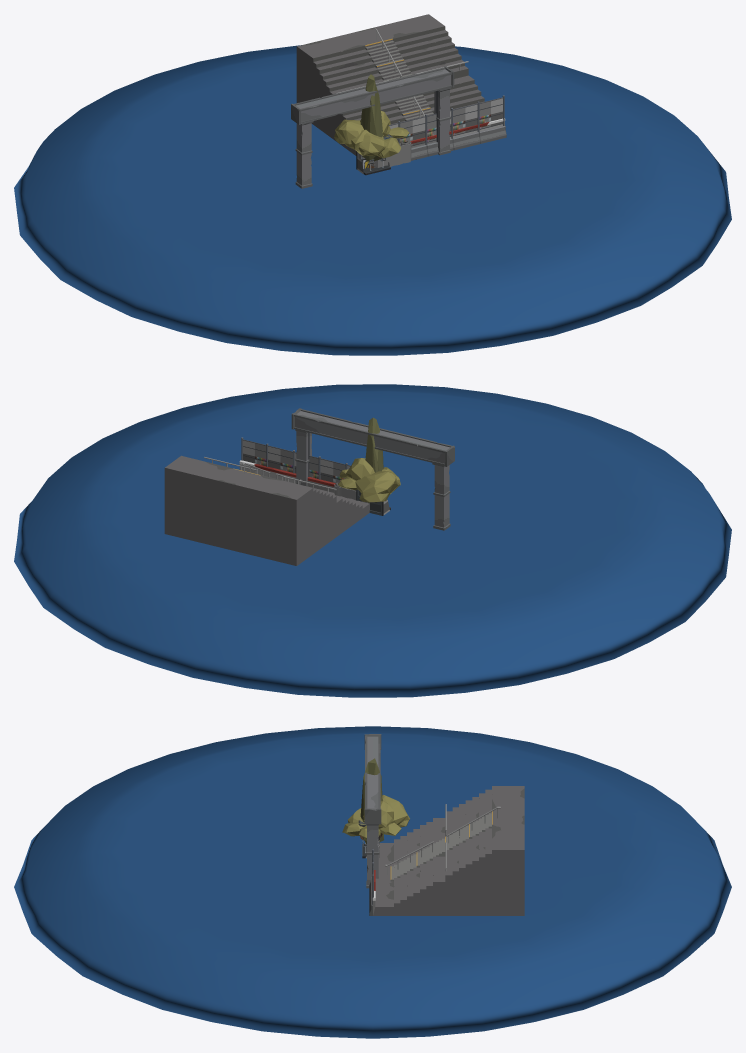
File: redline_road_pro.glb
The picture shows the model from 3 angles, top to bottom: view 1: azimuth 30°, elevation 25°; view 2: azimuth 150°, elevation 25°; view 3: azimuth 270°, elevation 25°; orthographic projection.
Visible parts, largest first — view 1: Env_RoadEdge_Green_01, Bld_Grandstand_01, Prop_Gantry_01, Prop_Barrier_01, Env_Tree_01, Env_Tree_Thin_01; view 2: Env_RoadEdge_Green_01, Bld_Grandstand_01, Prop_Gantry_01, Prop_Barrier_01, Env_Tree_01, Env_Tree_Thin_01; view 3: Env_RoadEdge_Green_01, Bld_Grandstand_01, Prop_Gantry_01, Env_Tree_01.
Part boxes in pixels (x1,y1,x2,y2): Env_RoadEdge_Green_01: (14, 45, 731, 355); Bld_Grandstand_01: (296, 14, 505, 155); Prop_Gantry_01: (291, 66, 454, 188); Prop_Barrier_01: (388, 95, 506, 160); Env_Tree_01: (334, 111, 409, 168); Env_Tree_Thin_01: (360, 74, 383, 161); Env_RoadEdge_Green_01: (14, 384, 731, 697); Bld_Grandstand_01: (164, 455, 369, 565); Prop_Gantry_01: (291, 408, 454, 530); Prop_Barrier_01: (241, 437, 350, 483); Env_Tree_01: (338, 458, 400, 502); Env_Tree_Thin_01: (365, 417, 383, 502); Env_RoadEdge_Green_01: (14, 726, 731, 1038); Bld_Grandstand_01: (372, 786, 524, 915); Prop_Gantry_01: (364, 734, 381, 888); Env_Tree_01: (348, 795, 409, 839).
Size of the model in its own units: 59.21 by 12.09 by 59.21.
Materials: 1 (1 with a texture image).
